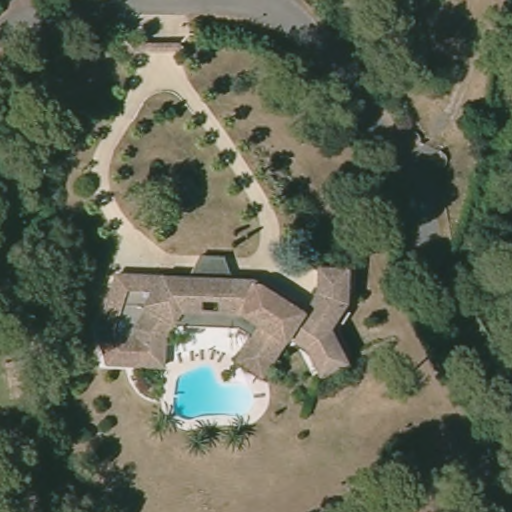pool: (165, 362, 265, 424)
